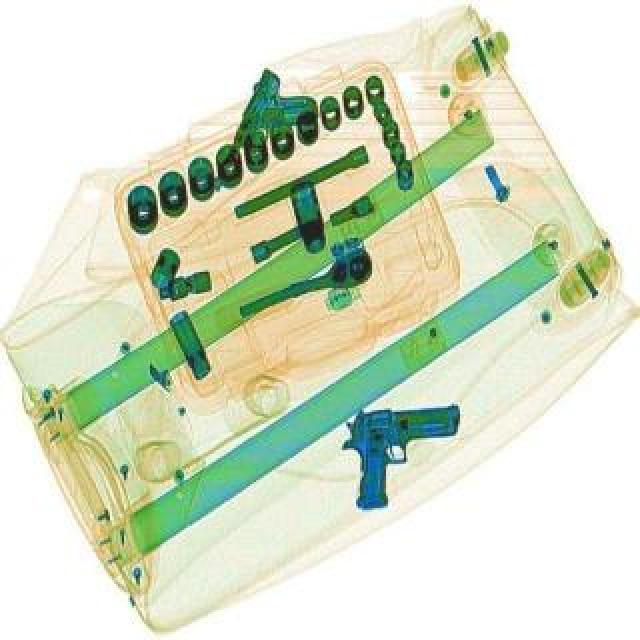gun: (200, 72, 328, 218), (336, 406, 468, 514)
